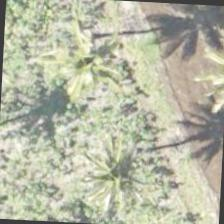Kelapa_Sawit: (46, 12, 141, 108), (72, 127, 167, 222)
